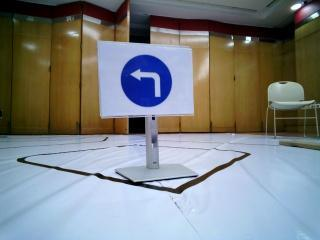left: (109, 43, 189, 115)
